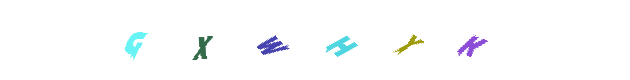G: (162, 0, 242, 80)
H: (275, 0, 355, 80)
K: (388, 0, 468, 80)
W: (231, 0, 311, 80)
X: (196, 0, 276, 80)
Y: (370, 0, 450, 80)
